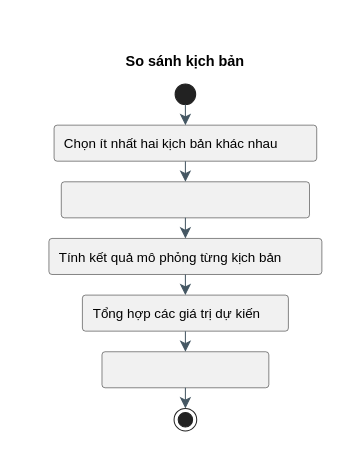
This 340x449 diagram has some shape labels left out. Each missing label, with the centre of its shape:
Hiển thị bảng so sánh: the point at 185,369
Xác minh số lượng và quyền sở hữu: the point at 185,199
